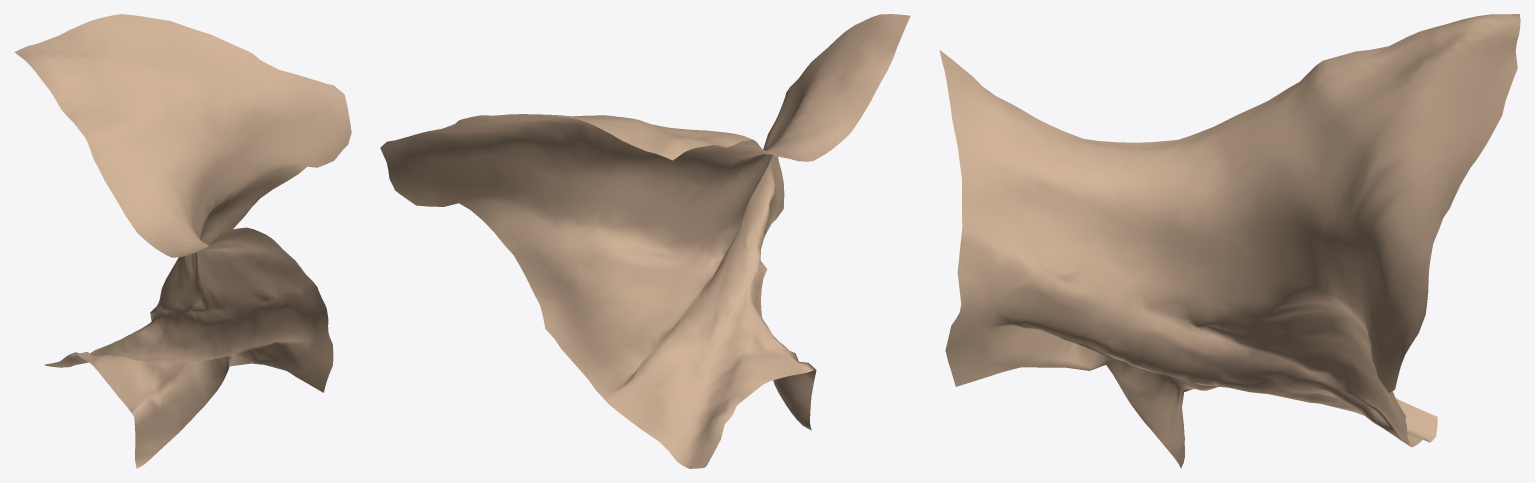
3 renders of one model, left to right at view 1: azimuth 30°, elevation 25°; view 2: azimuth 150°, elevation 25°; view 3: azimuth 270°, elevation 25°, orthographic. The views are drawn at different scales.
Visible parts, largest first — view 1: 左侧颈筋膜浅层; view 2: 左侧颈筋膜浅层; view 3: 左侧颈筋膜浅层.
Boxes of the visible parts, box(x1,y1,x2,y2) form: 左侧颈筋膜浅层: box(14, 14, 351, 468); 左侧颈筋膜浅层: box(380, 14, 910, 468); 左侧颈筋膜浅层: box(939, 14, 1520, 468).
Bounding box in the file's own units: 0.2597 × 0.2855 × 0.3176.
